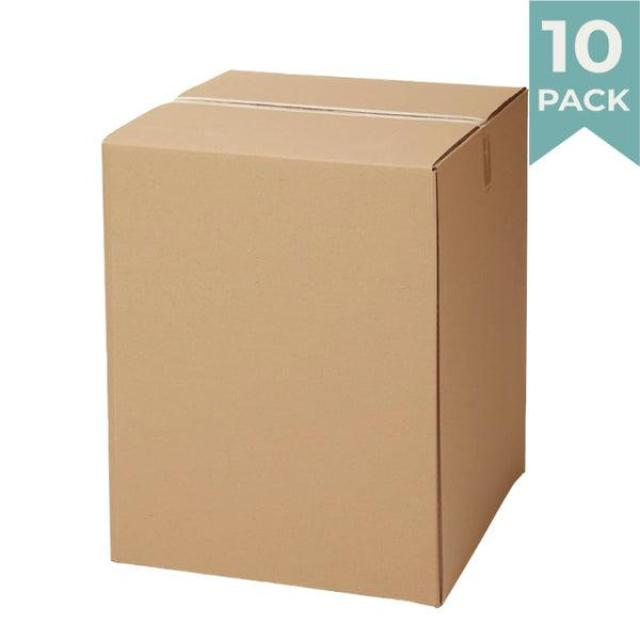Pathole: (91, 52, 544, 620)
